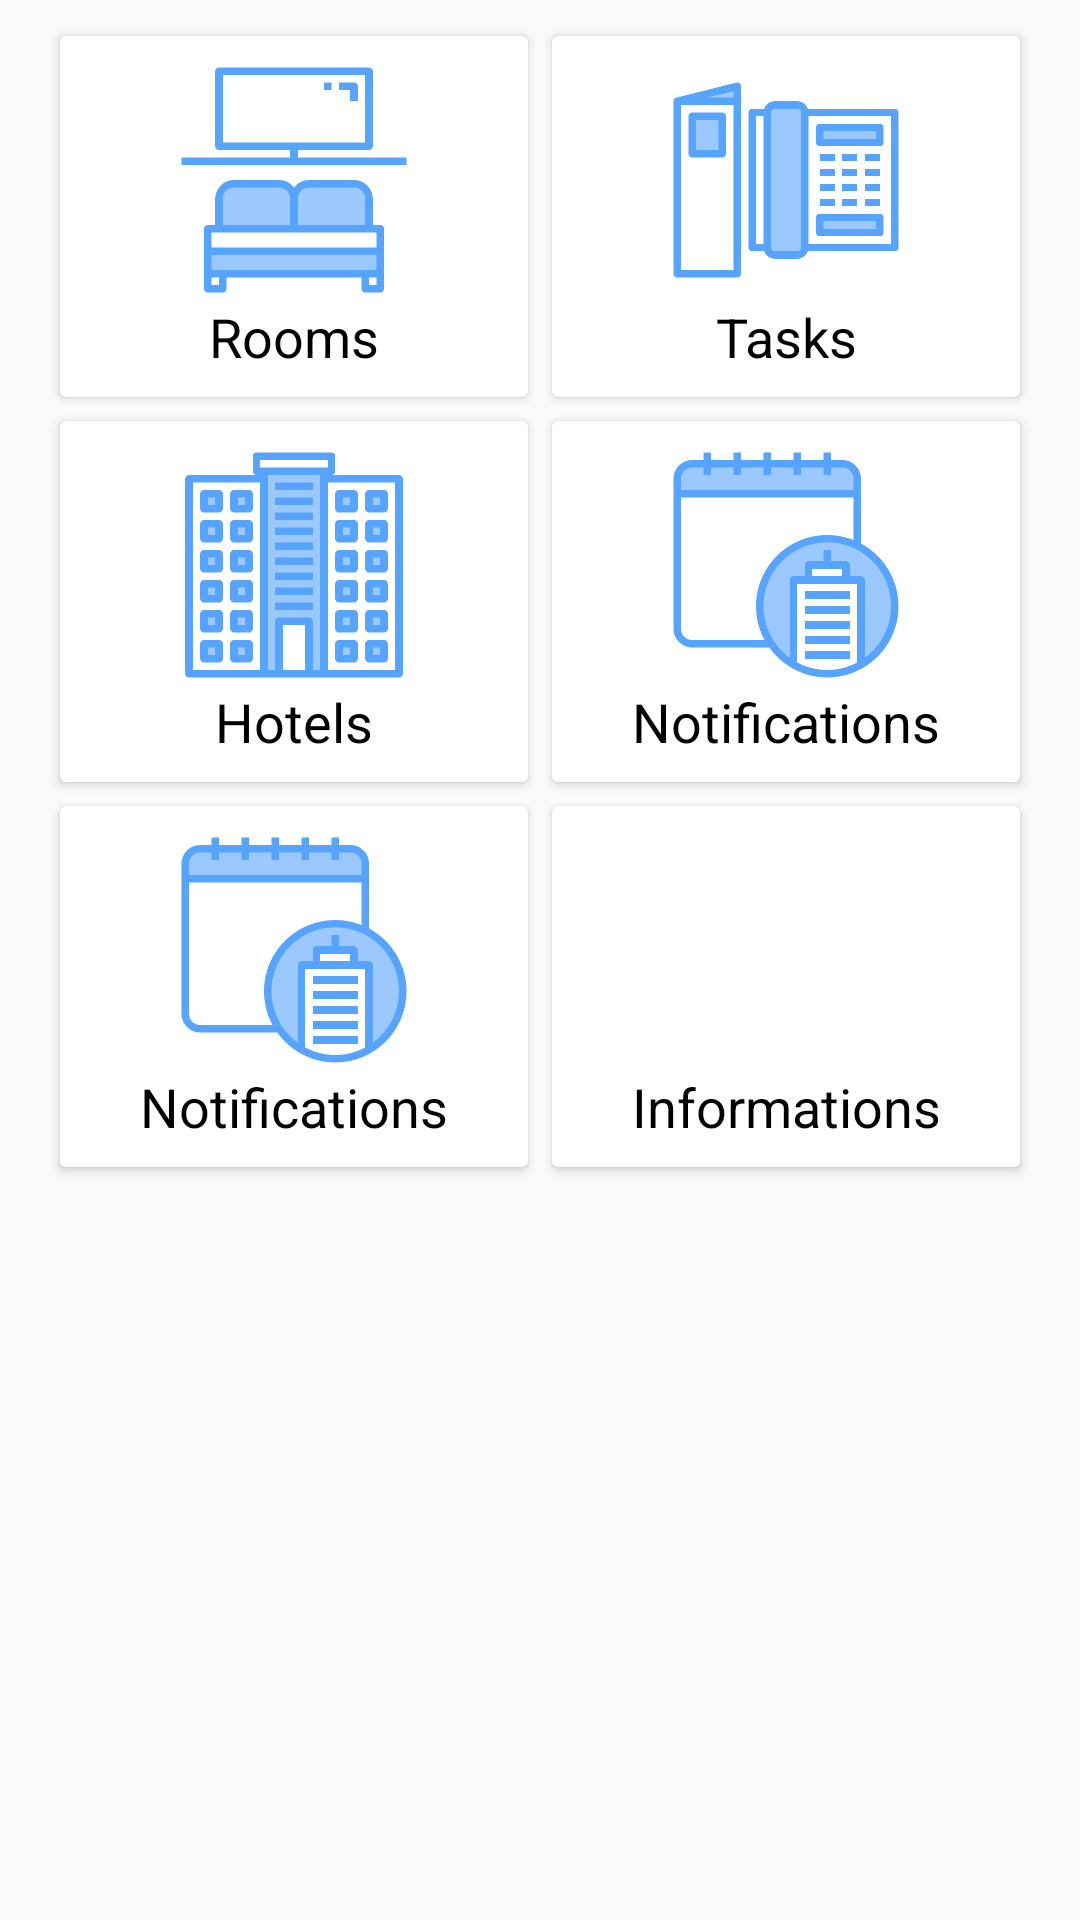

Icons on this 1080×1920 Android screen, each with its box as (x1, y1, x2, y2):
living room: (181, 67, 407, 293)
telephone: (673, 82, 899, 278)
